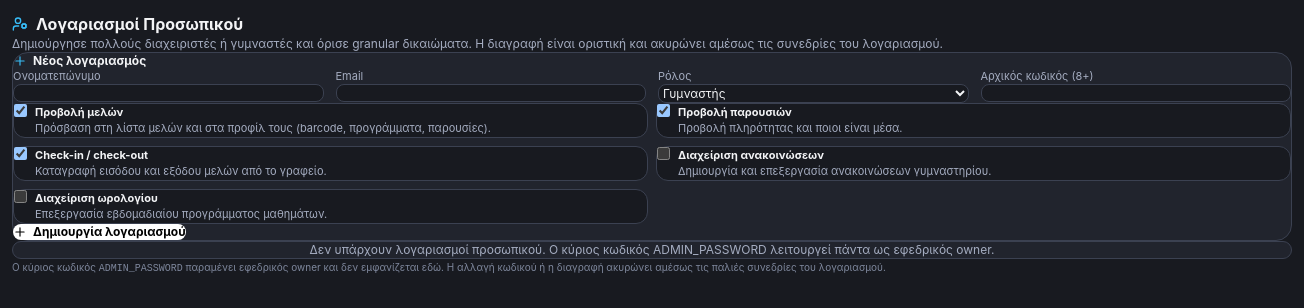
Test: StaffTab (staff accounts and permissions) › creates a trainer and clears the form afterwards
The width and height of the screenshot is (1304, 308).
Check: the text "Δεν υπάρχουν λογαριασμοί προσωπικού. Ο κύριος κωδικός ADMIN_PASSWORD λειτουργεί πάντα ως εφεδρικός owner." is shown, box [310,242,994,257]
Type "Νέος Γυμναστής" into the field below "Ονοματεπώνυμο" at {"x": 168, "y": 93}, box [13,84,324,102]
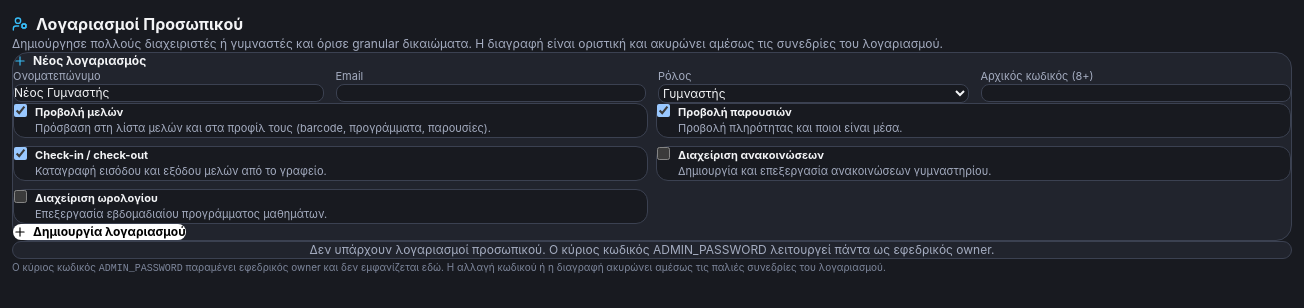
Type "new@nexusathletics.gr" into the field below "Email" at {"x": 491, "y": 93}, box [336,84,646,102]
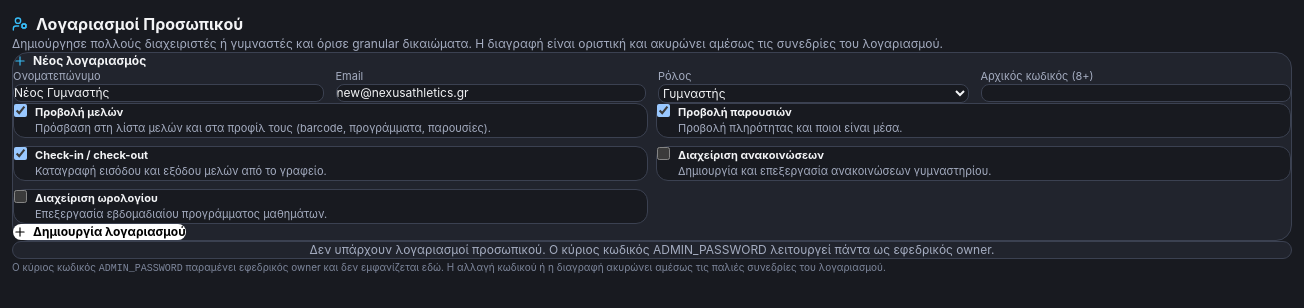
Type "supersecret1" into the password field at {"x": 1136, "y": 93}, box [980,84,1291,102]
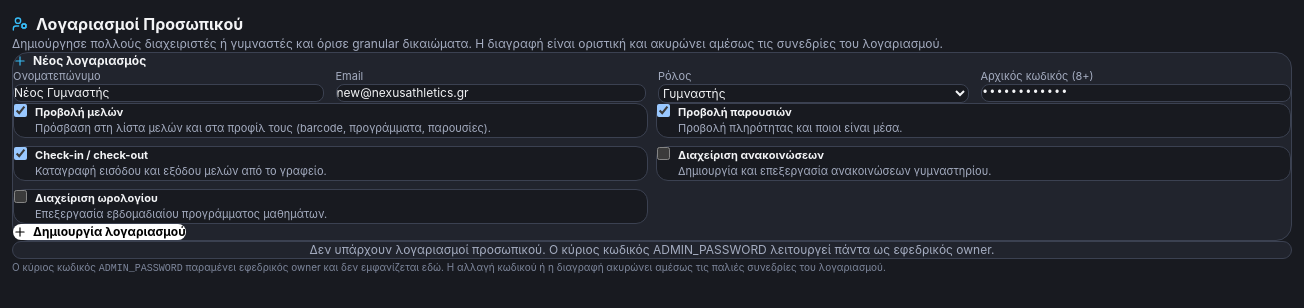
Click the button "Δημιουργία λογαριασμού" at {"x": 99, "y": 232}, box [13,224,186,240]
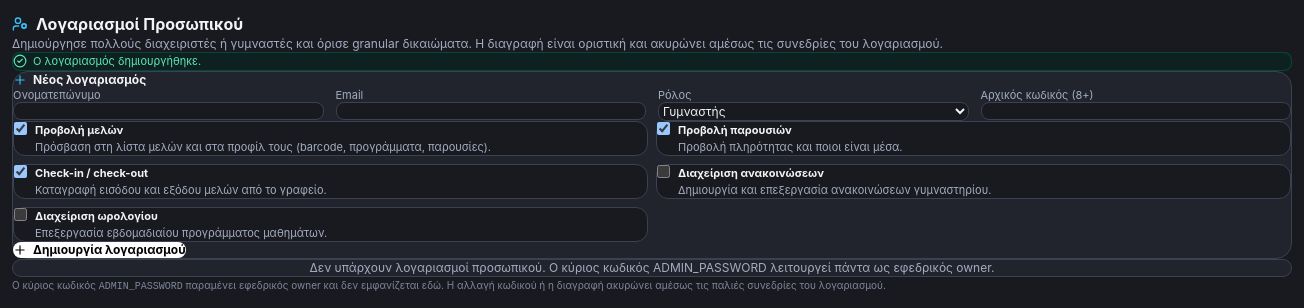
Check: the text "Ο λογαριασμός δημιουργήθηκε." is shown, box [12,52,1292,70]
Check: the password field is empty, box [980,102,1291,120]
